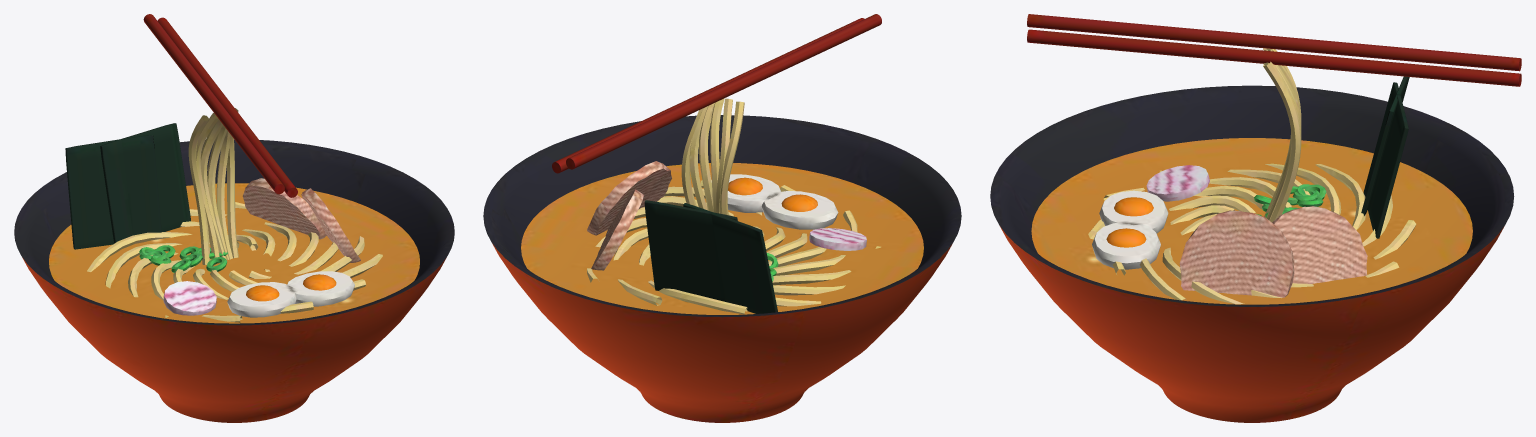
The model's file is ramen.glb.
The picture shows the model from 3 angles, left to right: view 1: azimuth 30°, elevation 25°; view 2: azimuth 150°, elevation 25°; view 3: azimuth 270°, elevation 25°; orthographic projection. The views are drawn at different scales.
Visible parts, largest first — view 1: ramen; view 2: ramen; view 3: ramen.
Part boxes in pixels (x1=…): ramen: x1=14, y1=14, x2=454, y2=422; ramen: x1=483, y1=14, x2=961, y2=422; ramen: x1=990, y1=14, x2=1521, y2=422.
Size of the model in its own units: 0.3542 by 0.2565 by 0.3593.
Materials: 1 (1 with a texture image).
